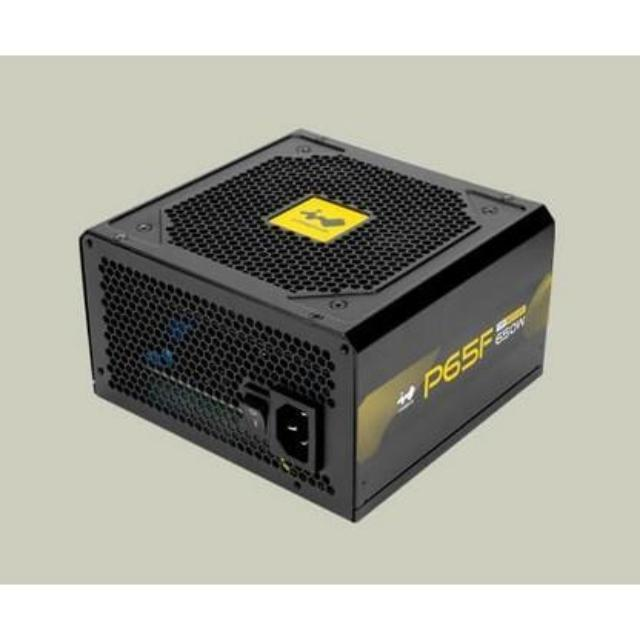PSU: (69, 115, 560, 532)
